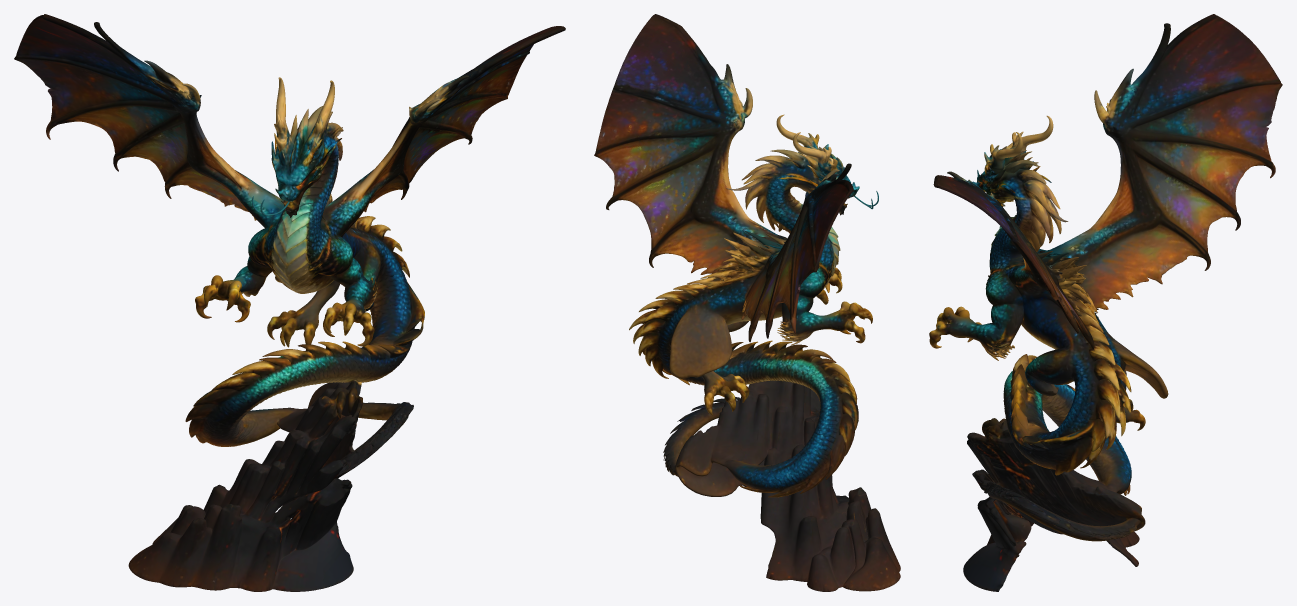
File: ying-long.glb
3 views of the same model, side by side, from view 1: azimuth 30°, elevation 25°; view 2: azimuth 150°, elevation 25°; view 3: azimuth 270°, elevation 25° (orthographic). The views are drawn at different scales.
Parts seen in each view (by area): view 1: material; view 2: material; view 3: material.
Boxes of the visible parts, x1,y1,x2,y2 form: material: (14, 14, 565, 591); material: (594, 14, 900, 591); material: (929, 14, 1282, 591).
Bounding box in the file's own units: 0.6611 × 0.8547 × 0.5572.
Materials: 1 (1 with a texture image).
